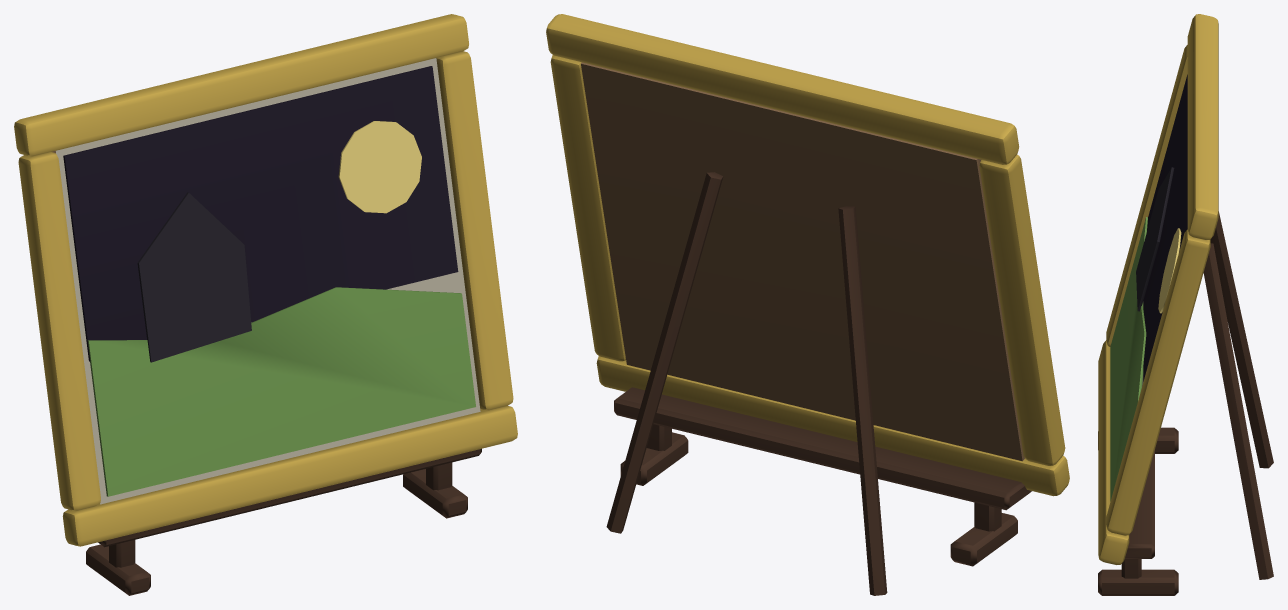
The model's file is item_painting.glb.
3 views of the same model, side by side, from view 1: azimuth 30°, elevation 25°; view 2: azimuth 150°, elevation 25°; view 3: azimuth 270°, elevation 25° (orthographic). The views are drawn at different scales.
Visible parts, largest first — view 1: canvas, item_painting; view 2: item_painting; view 3: item_painting, canvas.
Boxes of the visible parts, <box> form: canvas: <box>56,58,480,504</box>; item_painting: <box>14,14,517,595</box>; item_painting: <box>546,14,1069,595</box>; item_painting: <box>1098,14,1273,595</box>; canvas: <box>1110,74,1187,501</box>.
Size of the model in its own units: 0.7 by 0.6766 by 0.2618.
